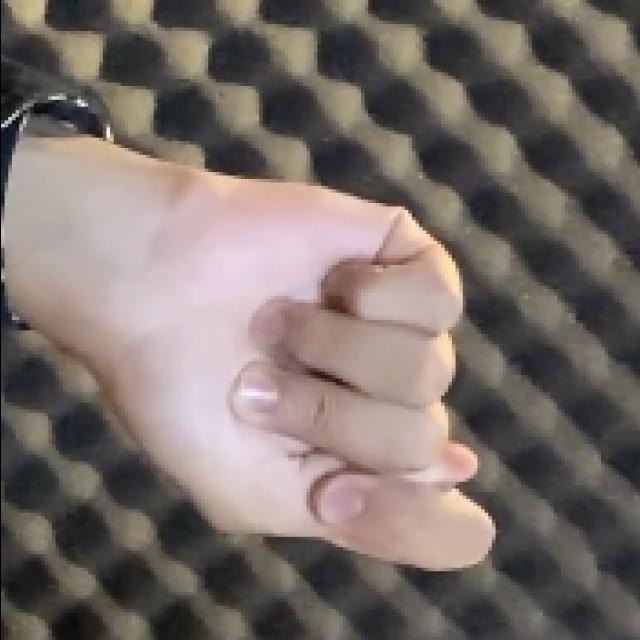T: (87, 139, 507, 587)
